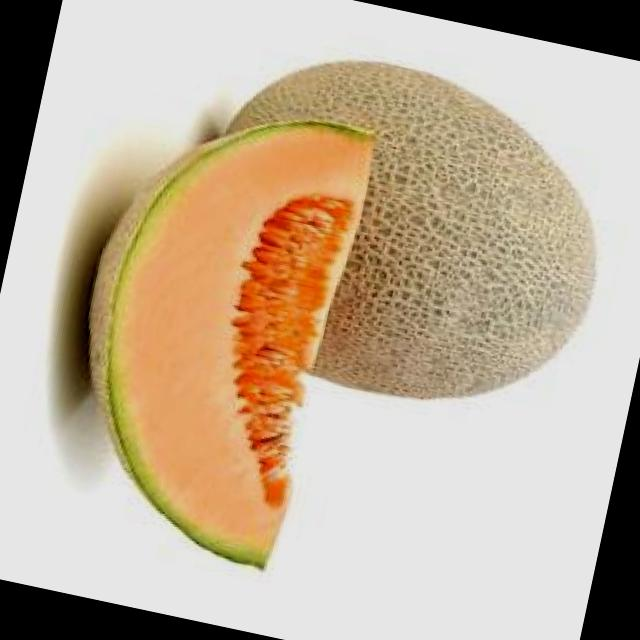cantaloupe: (176, 31, 624, 432), (39, 79, 382, 574)
